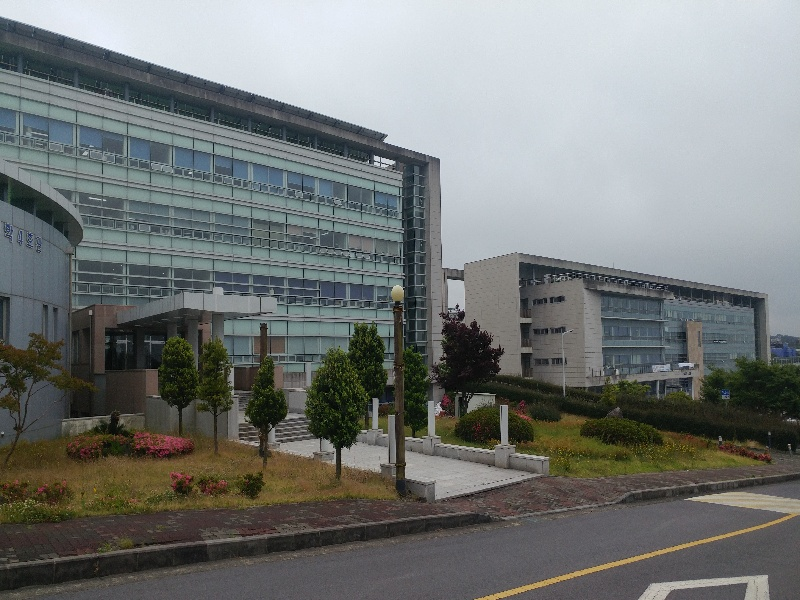College of Marine Science: (1, 27, 439, 426), (100, 87, 427, 401)
Engineering College Building 4: (465, 255, 765, 405), (518, 268, 754, 368)
